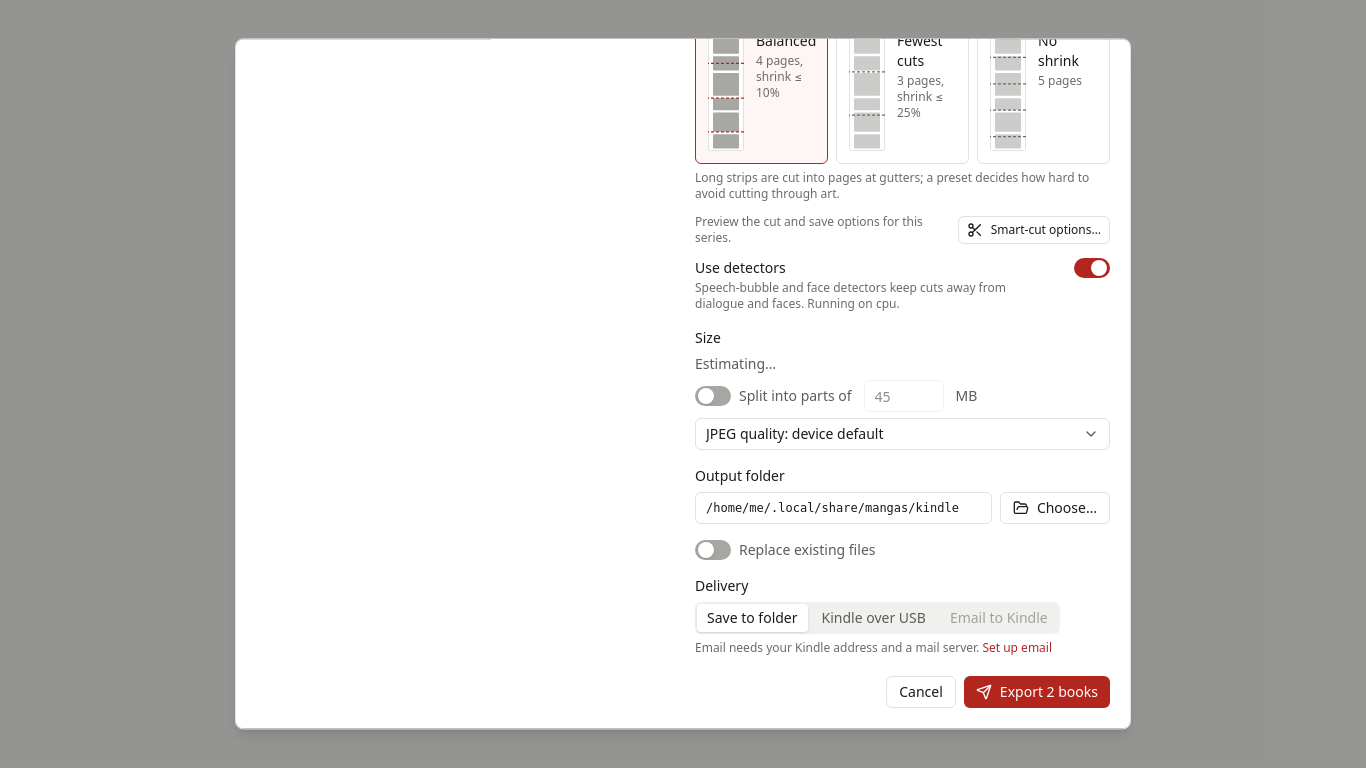
Test: export dialog: what it shows before and after writing › previews the names a folder that already holds the books leaves free
(page scrolled)
Click the button "Export 2 books": (1037, 692) [964,676,1110,708]
(page scrolled)
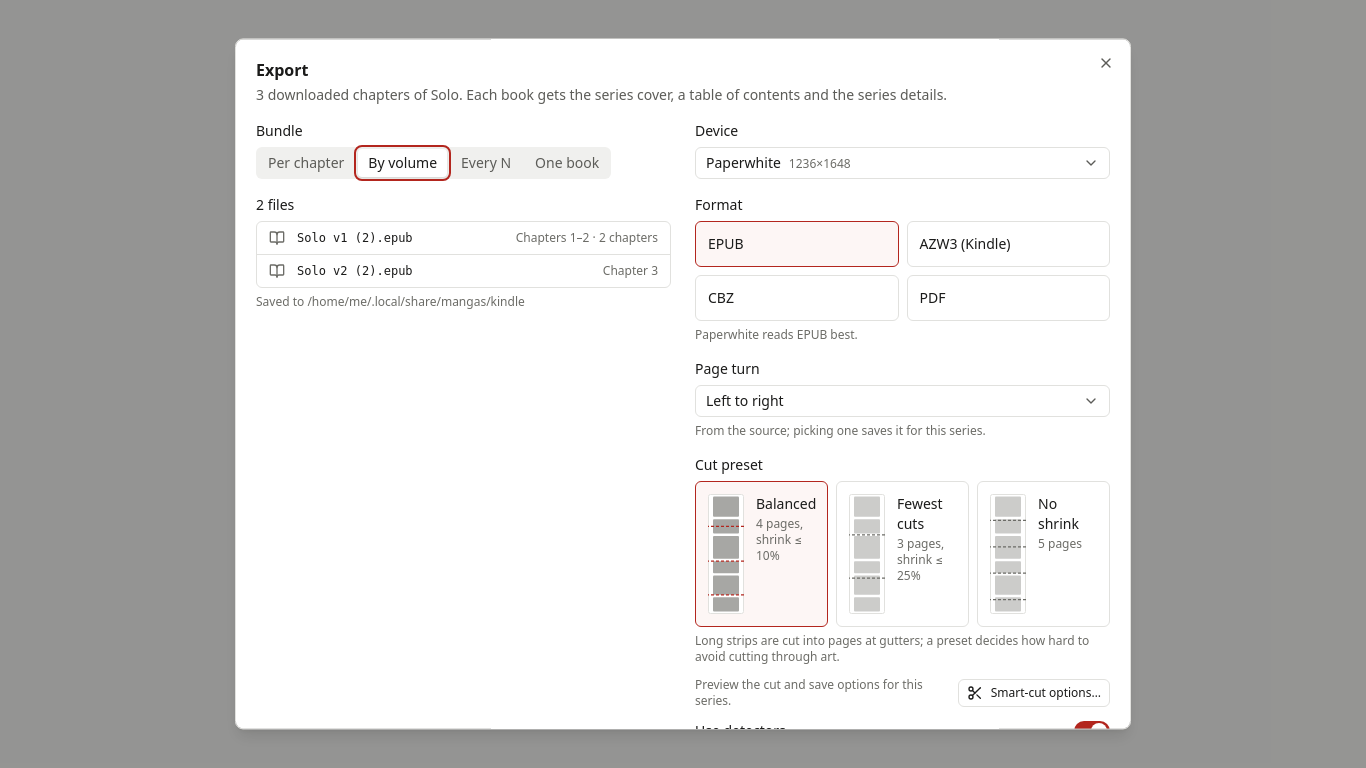
Check: the text "Solo v1 (2).epub" is shown, box [297,231,413,245]
Click the radio button labelled "PDF": (1008, 298) [906,275,1110,321]
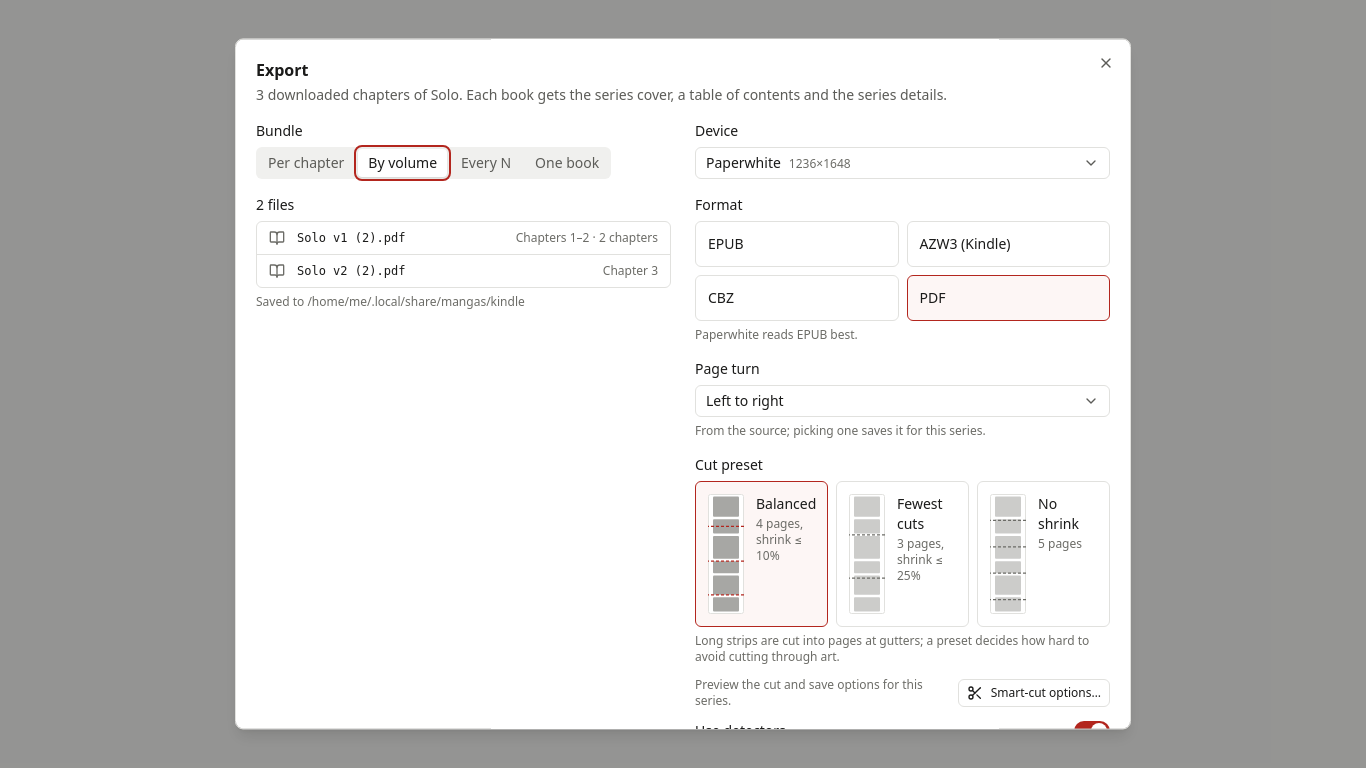
Check: the text "Solo v2 (2).pdf" is shown, box [297,264,405,278]
